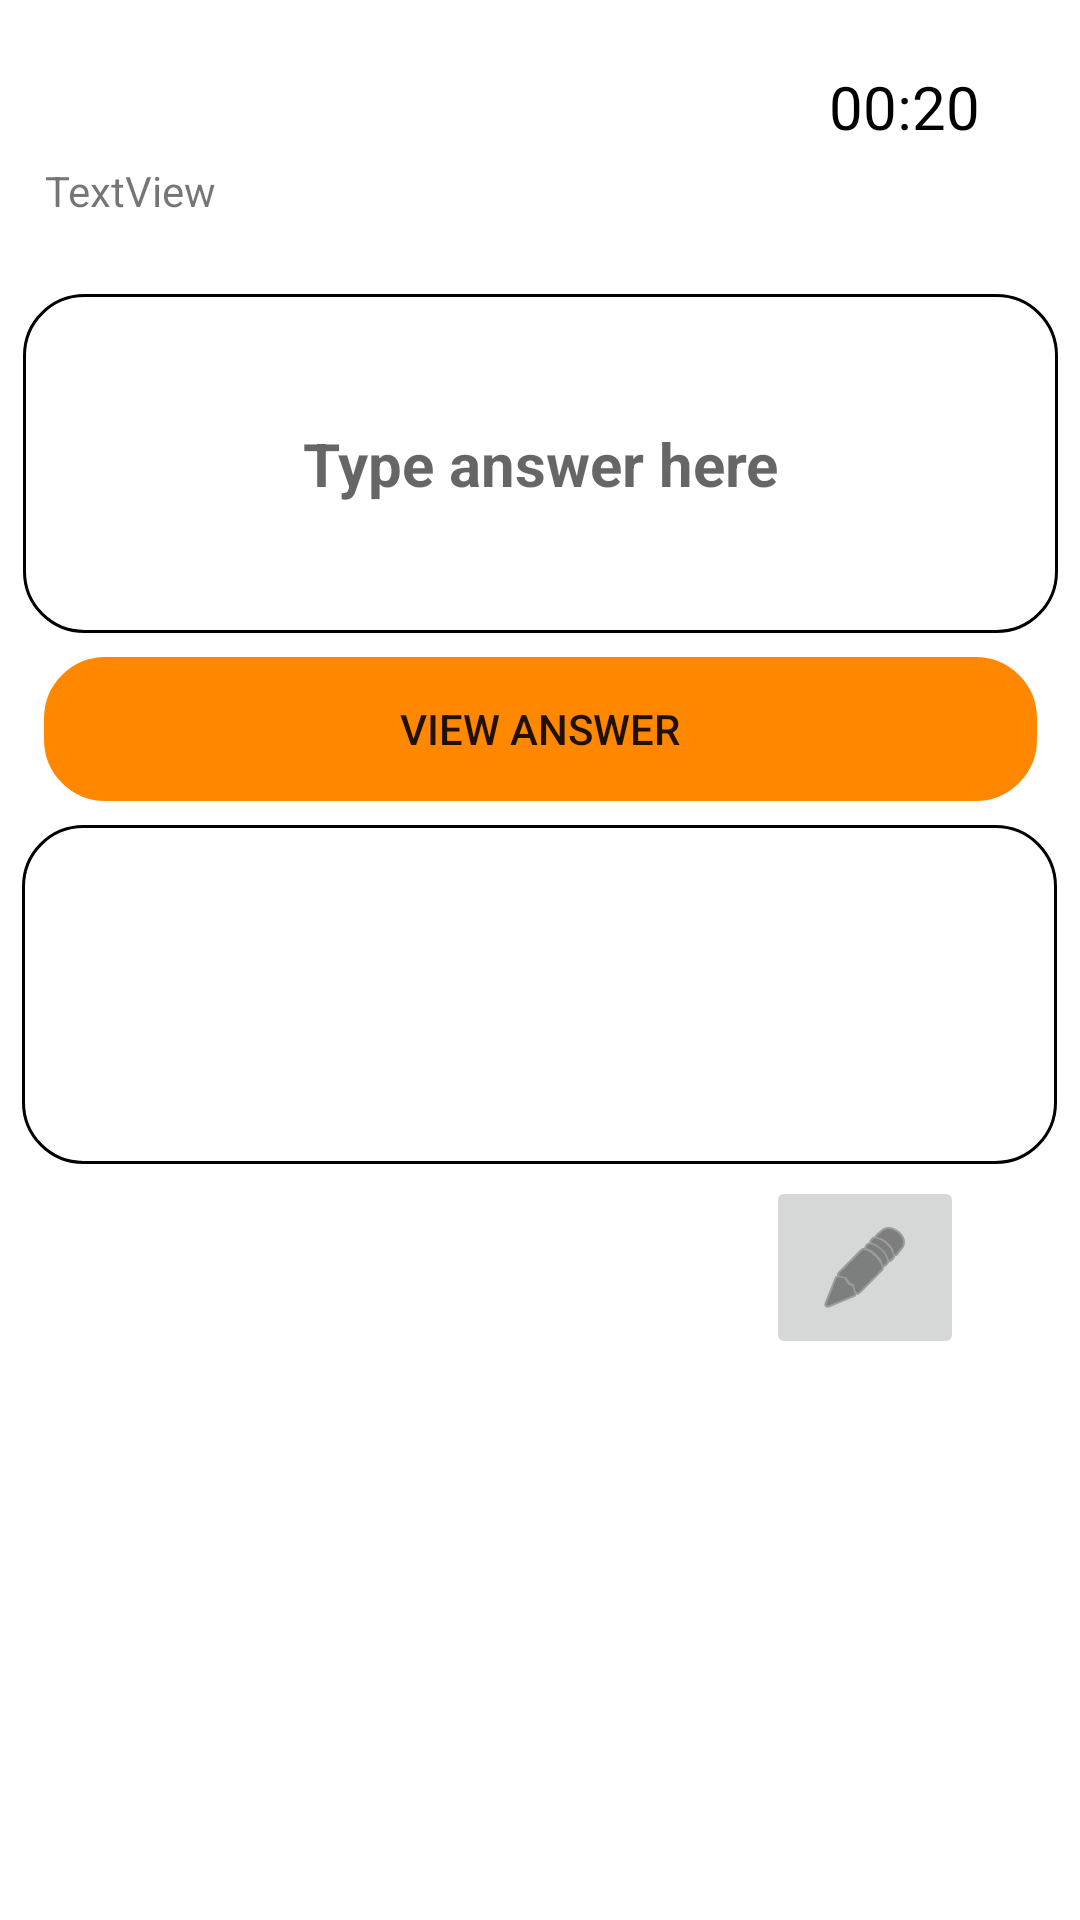

Where icons sit on this 1080 x 1920 app screen, as (x1, y1, x2, y2):
edit: (778, 1194, 952, 1341)
